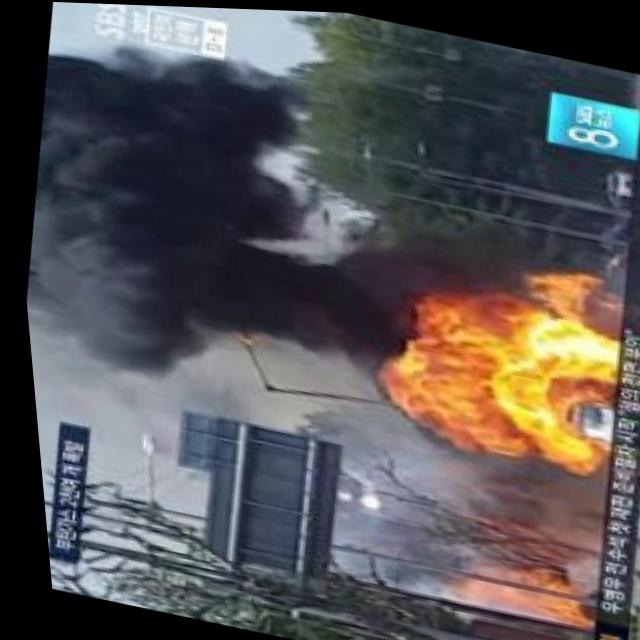Fire: (370, 278, 626, 470), (503, 573, 582, 627)
